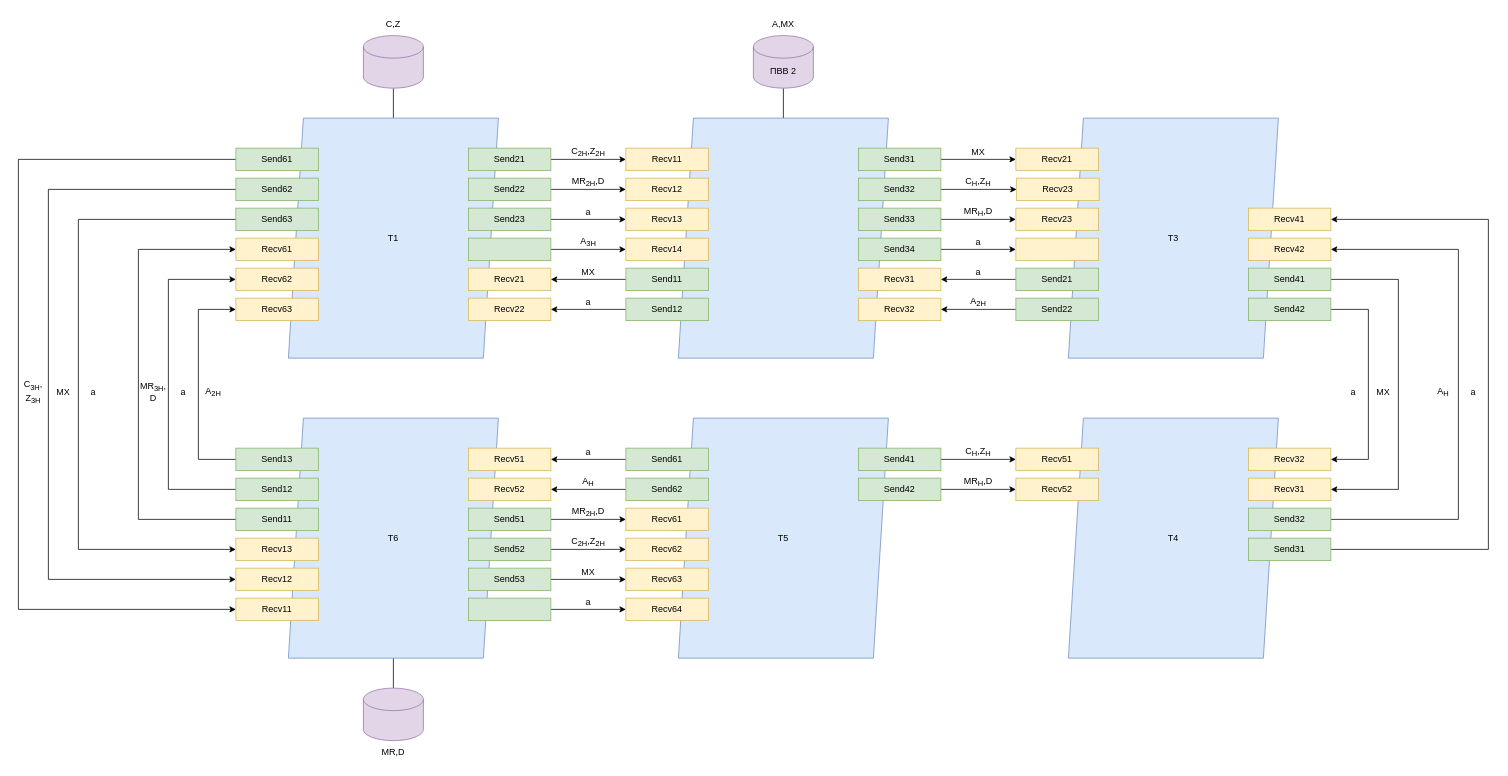
The diagram is 1508 pixels wide and 776 high, and some of its shapes have lost their labels. The shapes that lost their labels are listed below. From the top down, each one's centre as x and y in pixels, then its label:
the point at 393,61: ПВВ 1
the point at 509,249: Send24
the point at 783,237: T2
the point at 1056,249: Recv24
the point at 509,609: Send54
the point at 393,714: ПВВ 6
